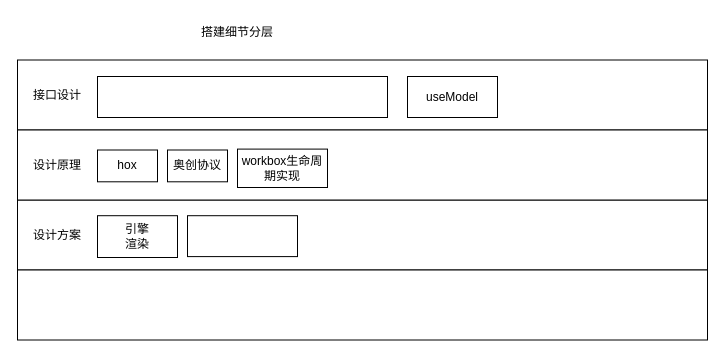
Some shapes in this 725 by 357 pixel diagram are drawn without their labels. Here are the shapes that lost their labels. From the top down, the centre of each, then its label:
point (242, 97): 容器 大组件/registerComponent/runApp/useData
point (242, 236): 容器 埋点/监控/数据转换
point (362, 304): 实现源码
